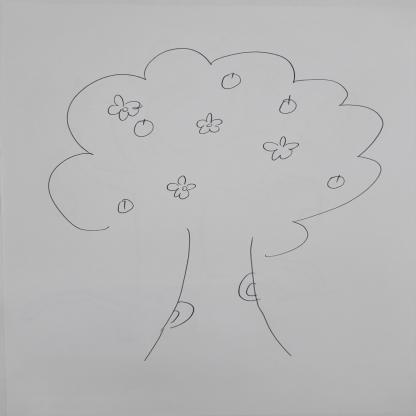apple: (133, 119, 156, 138), (222, 71, 243, 90), (113, 197, 135, 214), (278, 98, 298, 115), (326, 174, 346, 190)
crown_cloud: (50, 48, 388, 257)
knot: (162, 300, 196, 330), (233, 269, 262, 304)
trunk_reflex: (162, 258, 273, 334)
